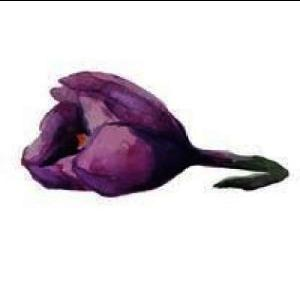Saffron: (20, 71, 229, 196)
